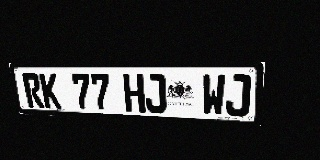7: (70, 73, 93, 110), (89, 74, 112, 111)
H: (123, 74, 146, 112)
J: (225, 74, 251, 117), (144, 74, 167, 113)
K: (39, 73, 62, 109)
R: (22, 73, 45, 108)
W: (202, 74, 226, 116)
